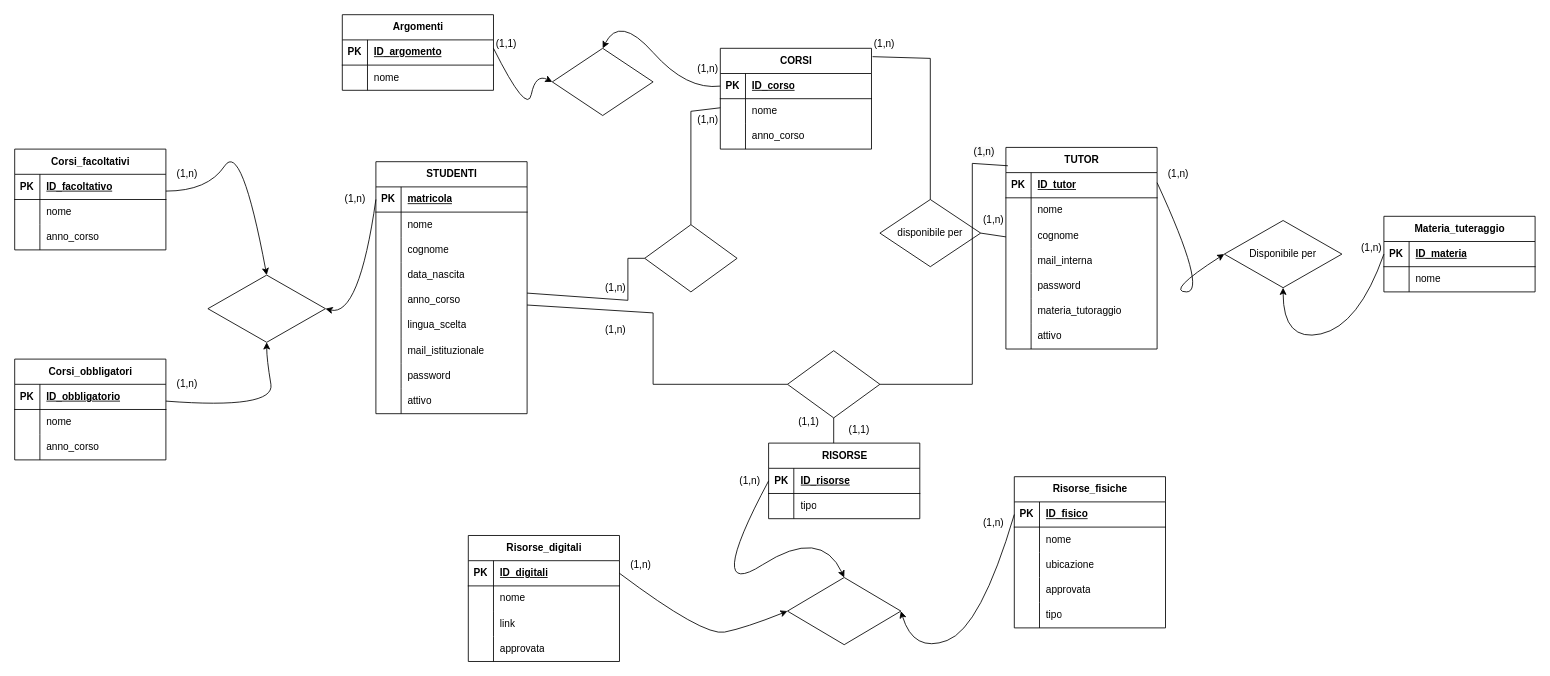
Image size: 1550x676. Some labels were removed from this diagram. The centre of each missing label's shape, as x and y in pixels:
frequenta: pixel 690 258
Possono essere: pixel 844 611
Prevedono: pixel 602 81
pubblica: pixel 833 384
seguono: pixel 266 308
